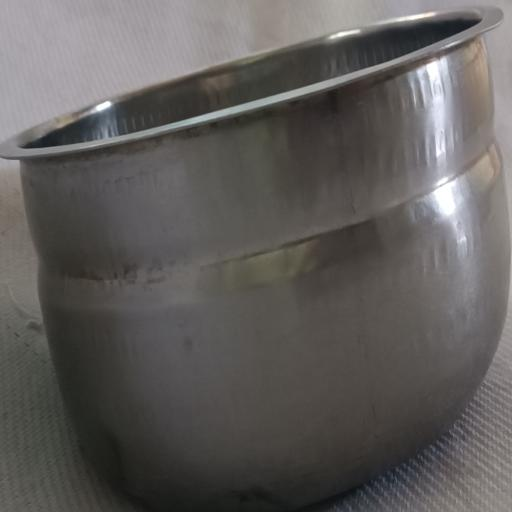vessel: (0, 9, 510, 511)
